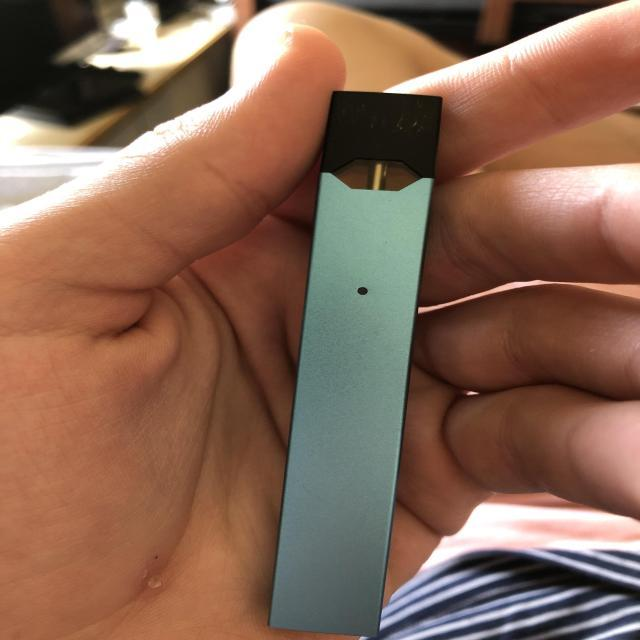Hazard: (268, 87, 442, 640)
